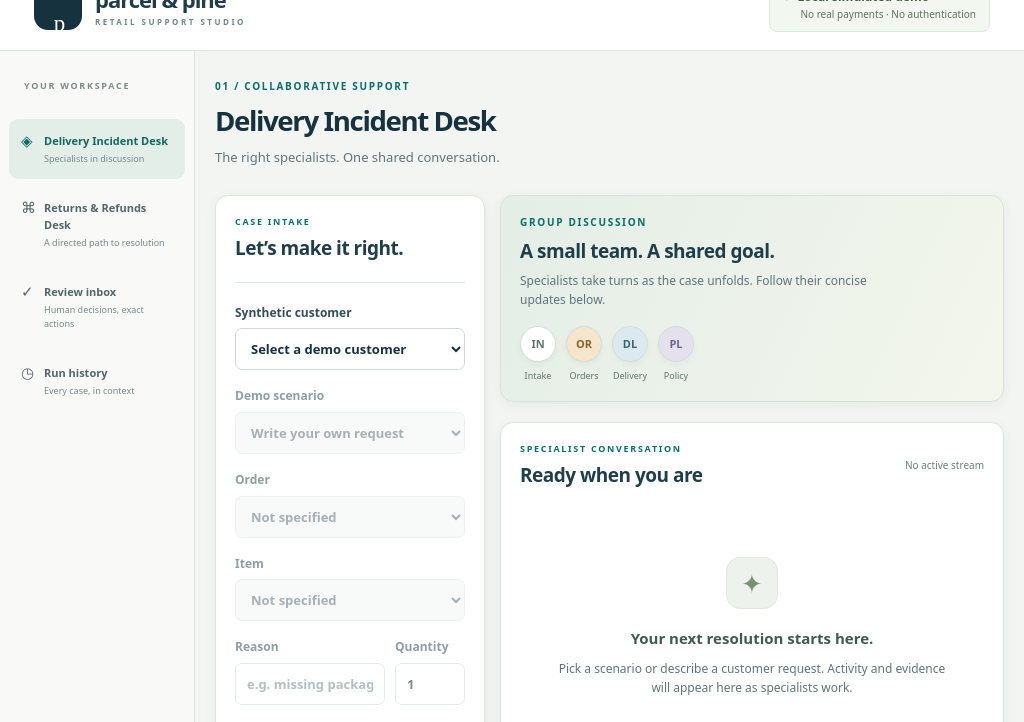
does not infer delivery confirmation from customer text
The image size is (1024, 722).
Select "Alex Chen · customer-1" in the dropdown labelled "Synthetic customer" at (350, 349), box [235,328,465,370]
(page scrolled)
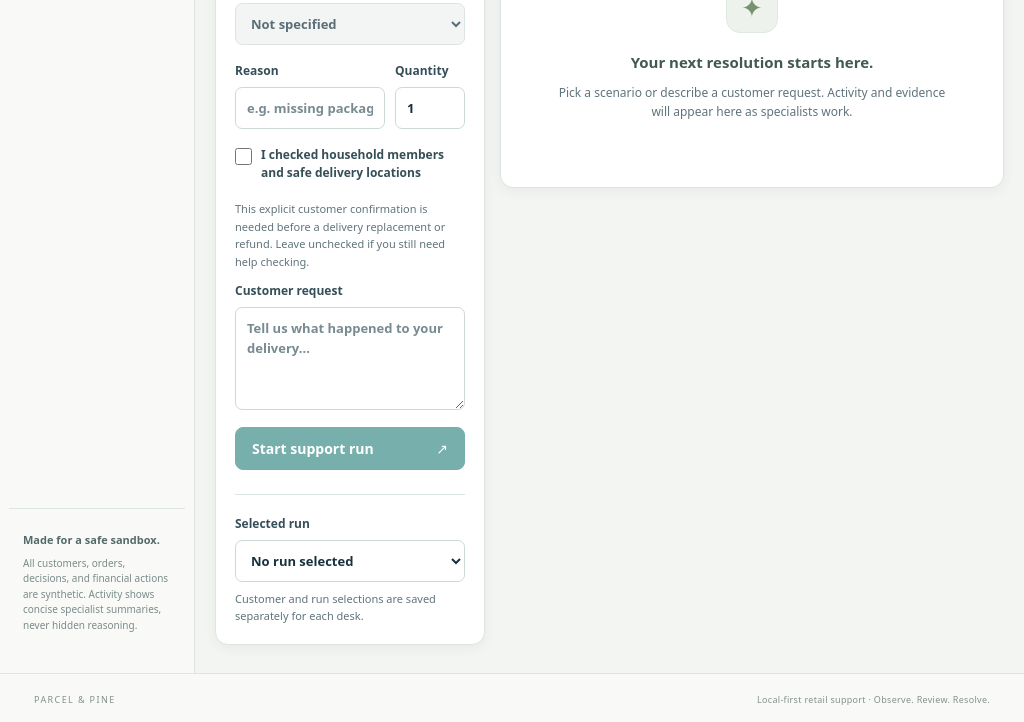
Type "I checked every safe delivery location." into the text box labelled "Customer request".
click(350, 358); type("I checked every safe delivery location.")  # box [235,307,465,410]
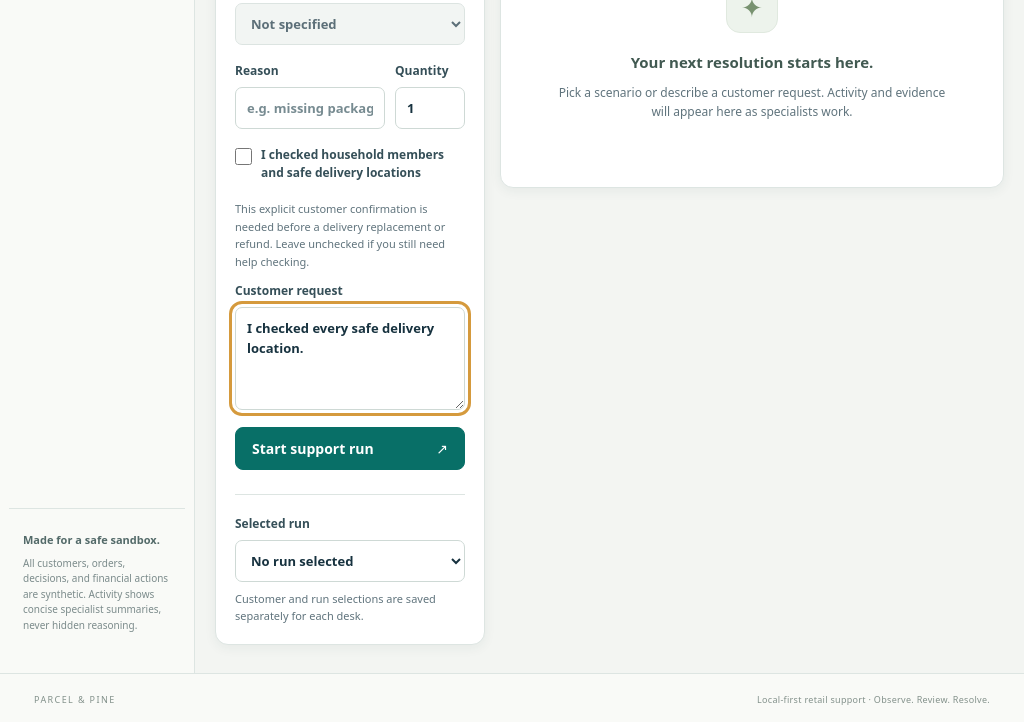
Expected: the checkbox labelled "I checked household members and safe delivery locations" is not checked, [235,148,252,165]
Click the button "Start support run ↗".
click(350, 448)  # box [235,427,465,470]
(page scrolled)
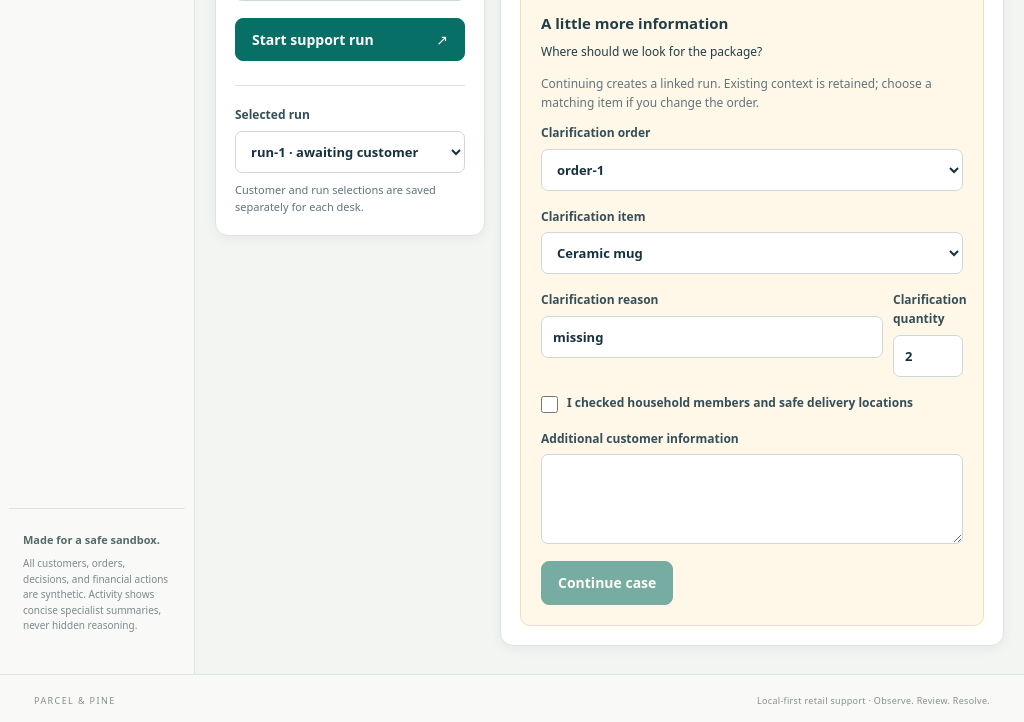
Result: the text "Where should we look for the package?" is shown at [541,43,762,60]
